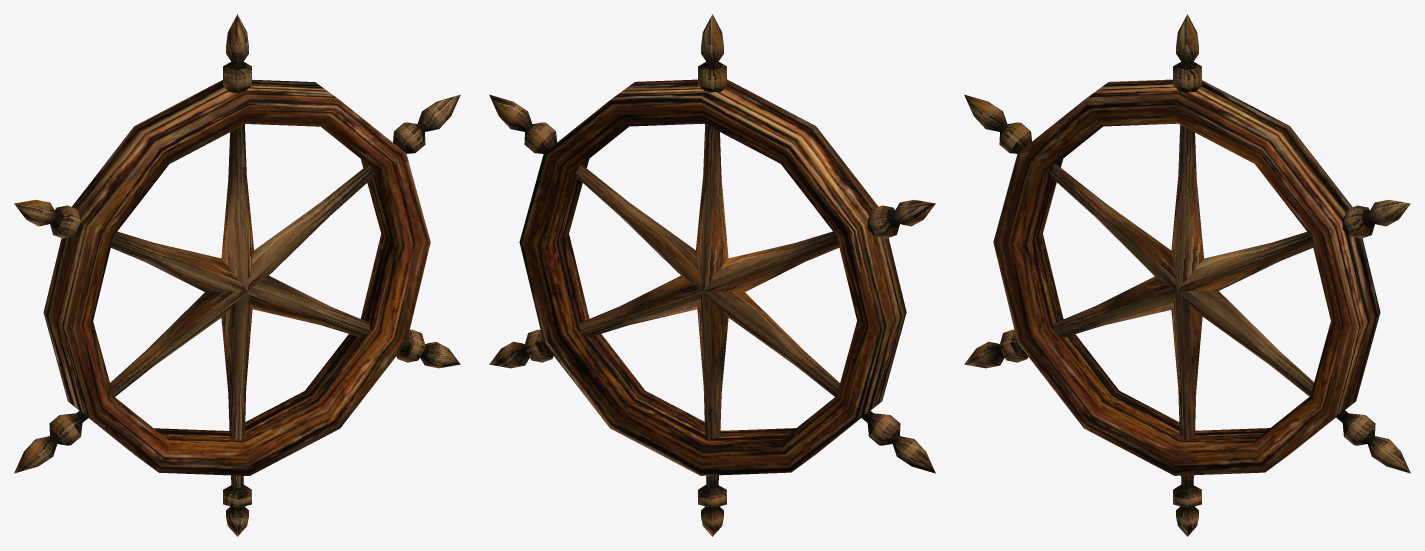
Rendered from INST_LT_WHEEL.fbx.
The picture shows the model from 3 angles, left to right: view 1: azimuth 30°, elevation 25°; view 2: azimuth 150°, elevation 25°; view 3: azimuth 330°, elevation 25°; orthographic projection.
Visible parts, largest first — view 1: INST_LT_WHEEL; view 2: INST_LT_WHEEL; view 3: INST_LT_WHEEL.
Boxes of the visible parts, x1,y1,x2,y2 form: INST_LT_WHEEL: [14, 14, 460, 536]; INST_LT_WHEEL: [489, 14, 935, 536]; INST_LT_WHEEL: [964, 14, 1410, 536].
Bounding box in the file's own units: 9858 × 11021 × 951.
Materials: 2 (2 with a texture image).
